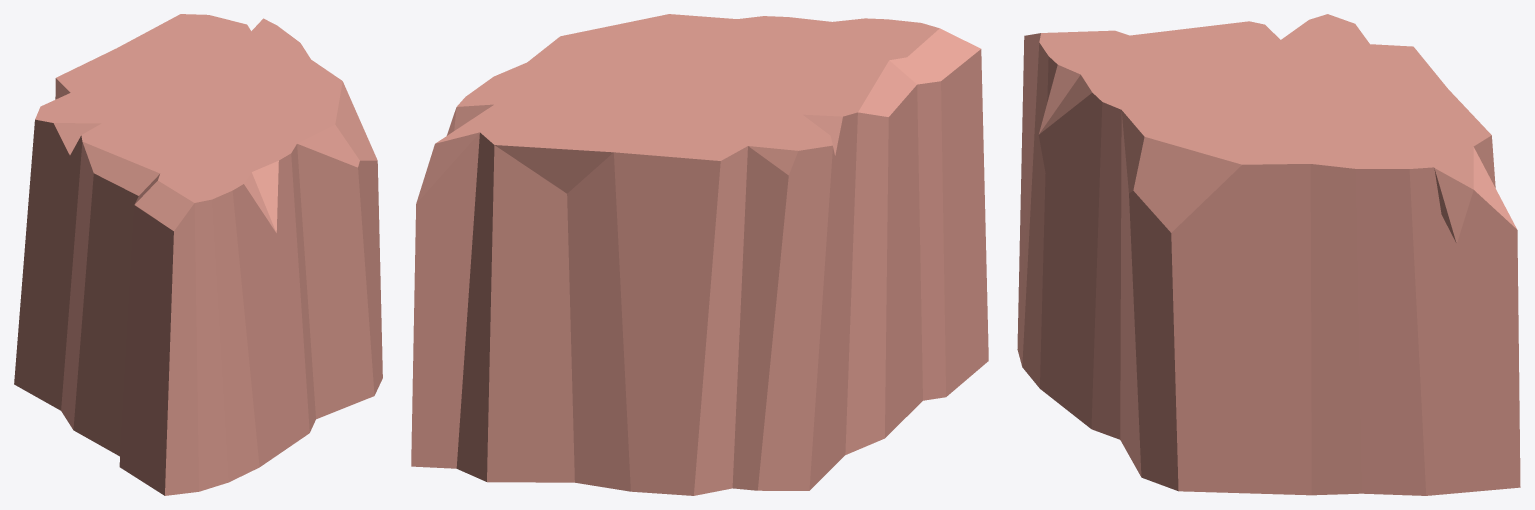
File: Romb_V5_Vlad.fbx
The picture shows the model from 3 angles, left to right: view 1: azimuth 30°, elevation 25°; view 2: azimuth 150°, elevation 25°; view 3: azimuth 270°, elevation 25°; orthographic projection. The views are drawn at different scales.
Visible parts, largest first — view 1: Romb_V5; view 2: Romb_V5; view 3: Romb_V5.
Boxes of the visible parts, x1,y1,x2,y2 form: Romb_V5: (14,14,382,495); Romb_V5: (411,14,988,495); Romb_V5: (1017,14,1520,495).
Bounding box in the file's own units: 112 × 101 × 144.
